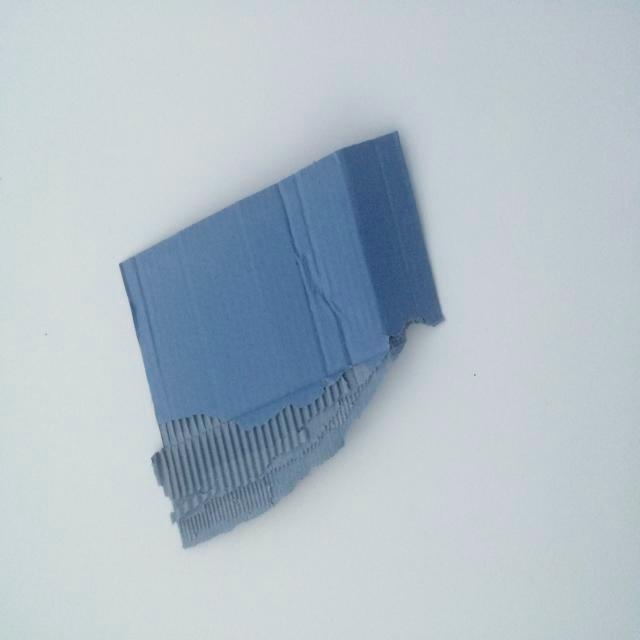cardboard: (106, 142, 470, 553)
